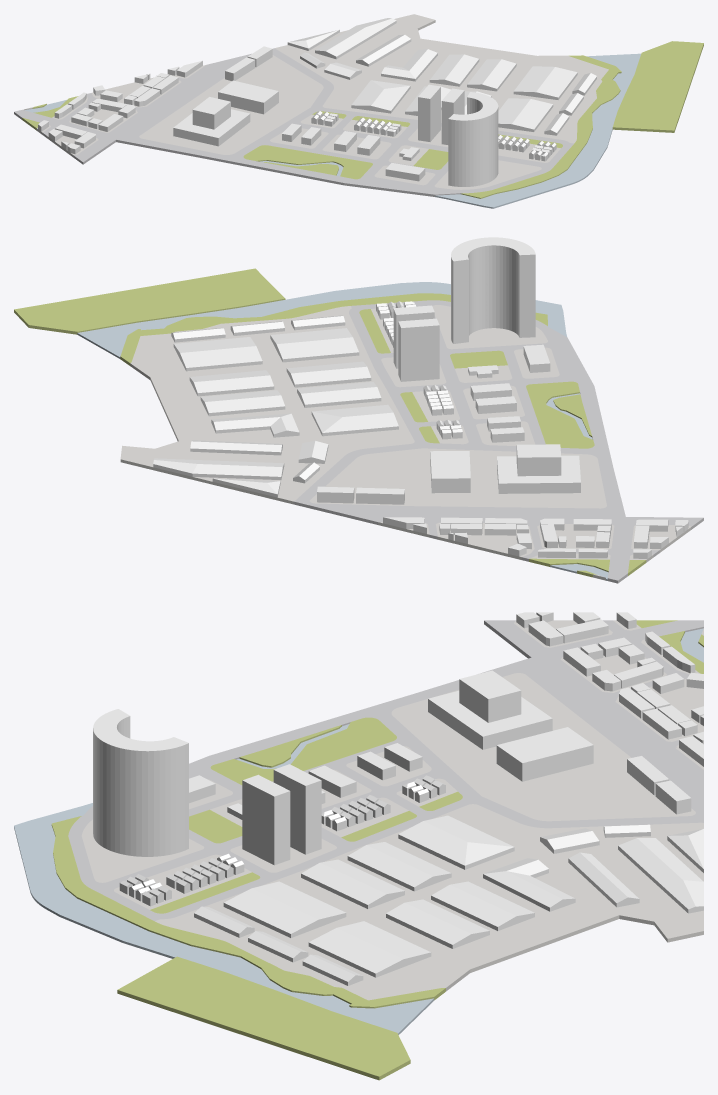
Rendered from Nhap1.gltf.
3 views of the same model, one above another, from view 1: azimuth 30°, elevation 25°; view 2: azimuth 150°, elevation 25°; view 3: azimuth 270°, elevation 25° (orthographic). The views are drawn at different scales.
Visible parts, largest first — view 1: CityEngineMaterial_4_m, CityEngineMaterial_m, CityEngineMaterial_3_m, CityEngineMaterial_1_m, CityEngineMaterial_2_m; view 2: CityEngineMaterial_4_m, CityEngineMaterial_m, CityEngineMaterial_1_m, CityEngineMaterial_3_m, CityEngineMaterial_2_m; view 3: CityEngineMaterial_4_m, CityEngineMaterial_m, CityEngineMaterial_1_m, CityEngineMaterial_3_m, CityEngineMaterial_2_m.
Part boxes in pixels (x1,y1,x2,y2): CityEngineMaterial_4_m: (38, 18, 596, 186); CityEngineMaterial_m: (23, 14, 608, 189); CityEngineMaterial_3_m: (14, 48, 573, 196); CityEngineMaterial_1_m: (22, 41, 703, 198); CityEngineMaterial_2_m: (25, 53, 640, 208); CityEngineMaterial_4_m: (153, 237, 688, 558); CityEngineMaterial_m: (120, 305, 690, 580); CityEngineMaterial_1_m: (14, 268, 646, 577); CityEngineMaterial_3_m: (293, 300, 703, 583); CityEngineMaterial_2_m: (77, 282, 608, 580); CityEngineMaterial_4_m: (93, 612, 703, 985); CityEngineMaterial_m: (81, 620, 703, 1000); CityEngineMaterial_1_m: (51, 620, 703, 1080); CityEngineMaterial_3_m: (68, 620, 703, 921); CityEngineMaterial_2_m: (14, 628, 703, 1034).
Size of the model in its own units: 1295 by 145 by 828.
